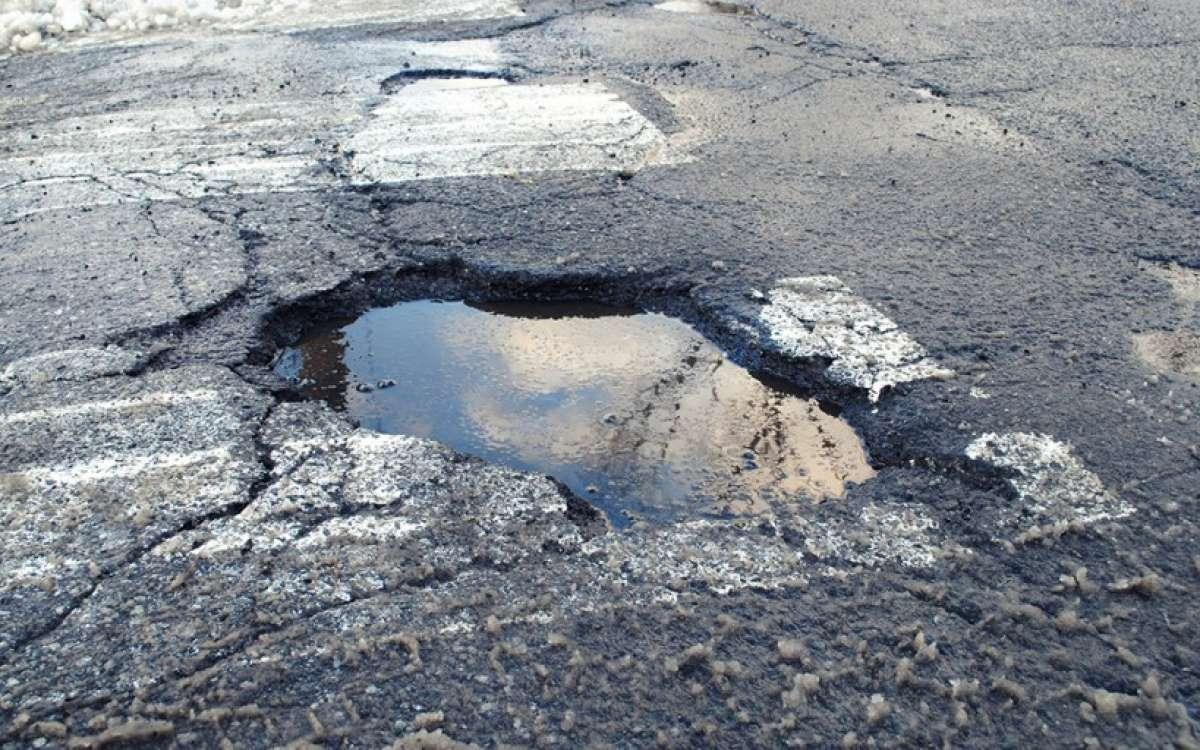Pothole: (173, 213, 1032, 586), (1093, 221, 1200, 416)
